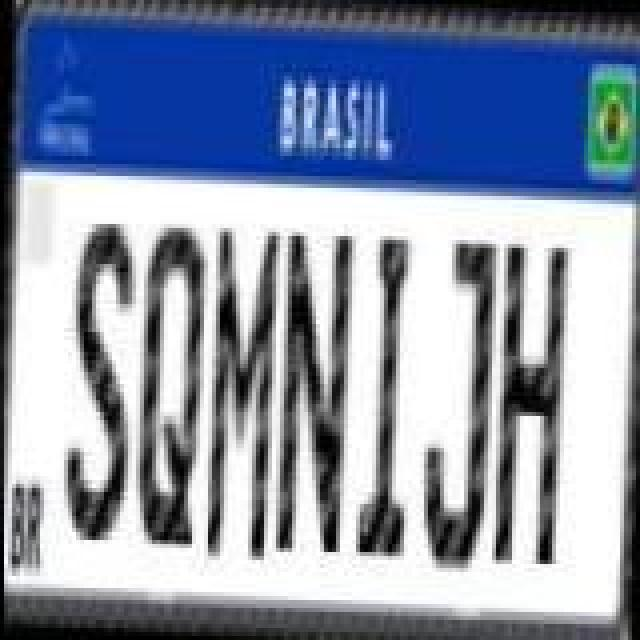H: (488, 238, 568, 570)
I: (350, 232, 418, 564)
J: (416, 232, 496, 572)
M: (202, 224, 278, 564)
N: (270, 226, 354, 558)
Q: (130, 222, 206, 550)
S: (56, 218, 136, 542)
